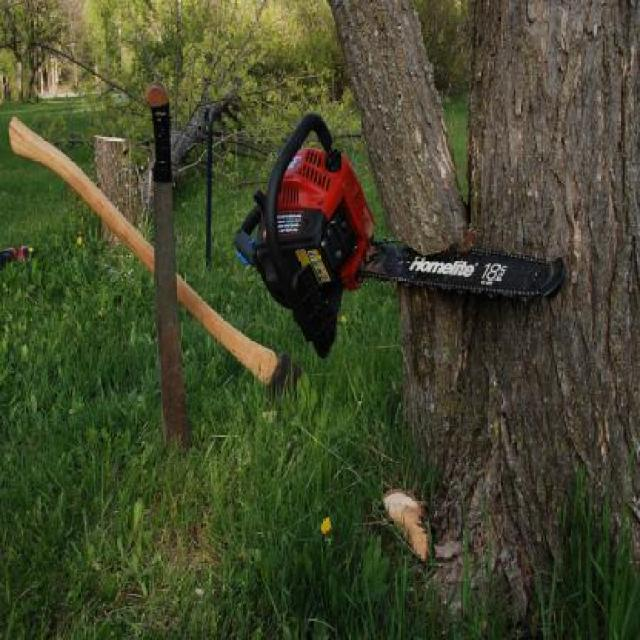Chainsaw: (231, 108, 571, 357)
